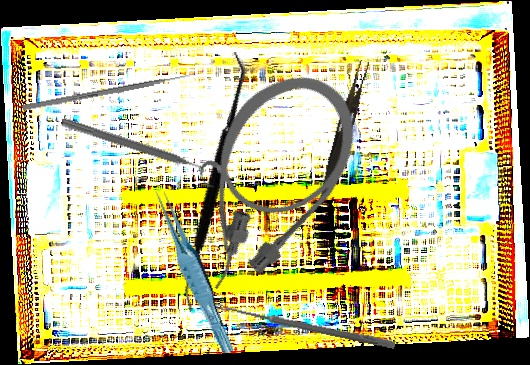Cannula: (148, 49, 383, 314)
Dressing Forceps: (317, 58, 371, 202)
Fixation Ring: (55, 112, 226, 192)
Pusher: (22, 70, 199, 112)
Spatula Surgical: (110, 50, 315, 314)
Surgical Spoon: (214, 301, 396, 350)
Tissue Forceps: (153, 183, 235, 359)
